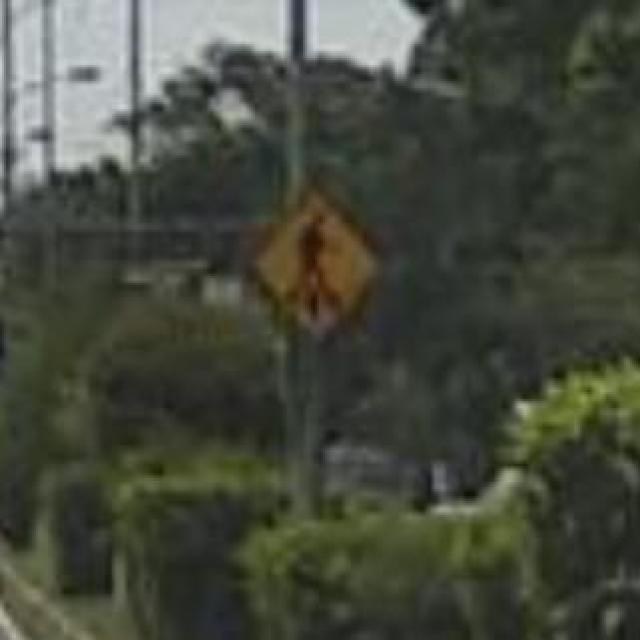traffic sign: (259, 195, 378, 339)
